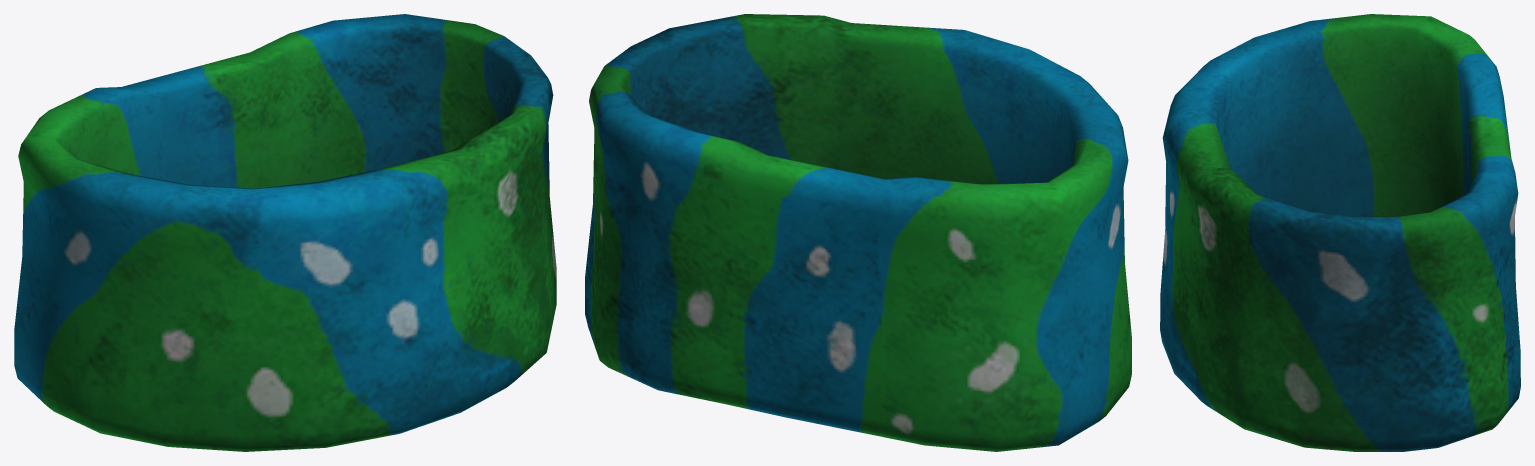
File: bass_pottery.DAE
3 views of the same model, side by side, from view 1: azimuth 30°, elevation 25°; view 2: azimuth 150°, elevation 25°; view 3: azimuth 270°, elevation 25° (orthographic). The views are drawn at different scales.
Parts seen in each view (by area): view 1: pCylinder1; view 2: pCylinder1; view 3: pCylinder1.
Boxes of the visible parts, box(x1,y1,x2,y2) form: pCylinder1: box(14, 14, 556, 451); pCylinder1: box(585, 14, 1131, 451); pCylinder1: box(1160, 14, 1520, 451).
Bounding box in the file's own units: 0.3518 × 0.2463 × 0.1734.
Materials: 1 (1 with a texture image).
